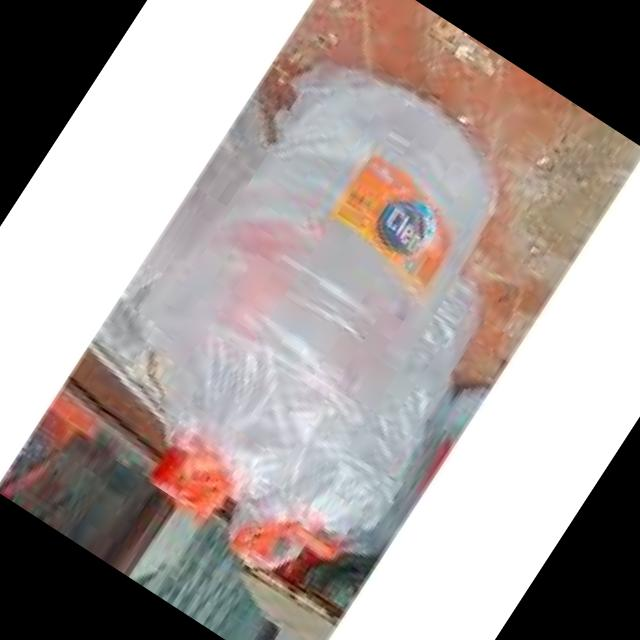Galon: (37, 17, 598, 620)
